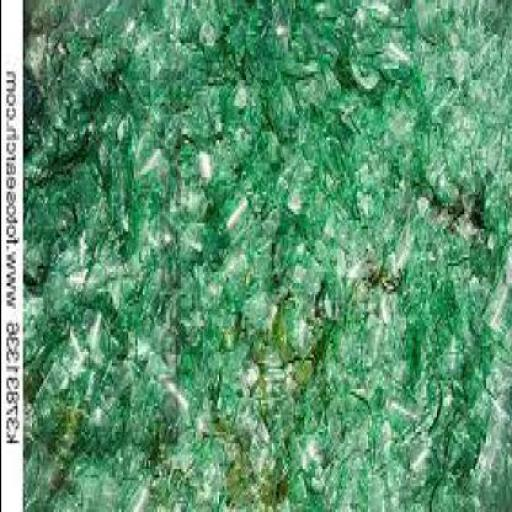glass: (23, 2, 511, 511), (134, 3, 394, 409), (130, 3, 332, 220), (290, 43, 402, 346), (348, 3, 463, 243), (30, 348, 198, 511), (76, 209, 185, 429), (280, 354, 430, 511), (30, 3, 130, 185), (432, 168, 511, 394), (190, 318, 296, 475), (399, 238, 498, 372), (445, 3, 503, 206), (428, 383, 511, 512), (27, 2, 76, 210)
